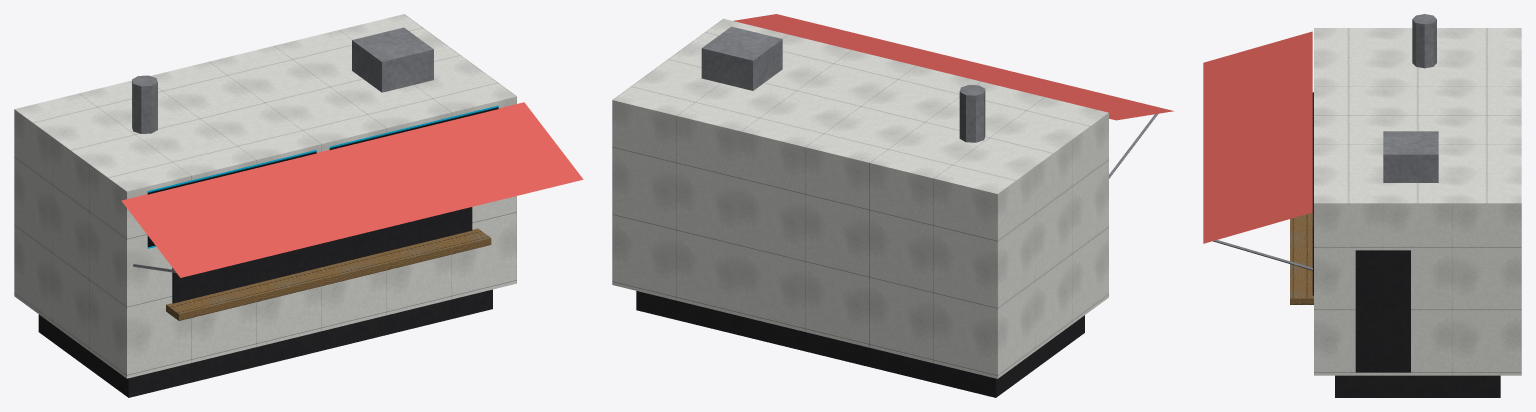
Rendered from food_stall_6m.glb.
3 renders of one model, left to right at view 1: azimuth 30°, elevation 25°; view 2: azimuth 150°, elevation 25°; view 3: azimuth 270°, elevation 25°, orthographic. The views are drawn at different scales.
Parts seen in each view (by area): view 1: food_stall_6m; view 2: food_stall_6m; view 3: food_stall_6m.
Part boxes in pixels (x1=…): food_stall_6m: x1=14, y1=14, x2=583, y2=397; food_stall_6m: x1=612, y1=14, x2=1174, y2=397; food_stall_6m: x1=1203, y1=14, x2=1521, y2=397.
Size of the model in its own units: 6.2 by 3.9 by 4.6.
7 materials, 6 textured.
